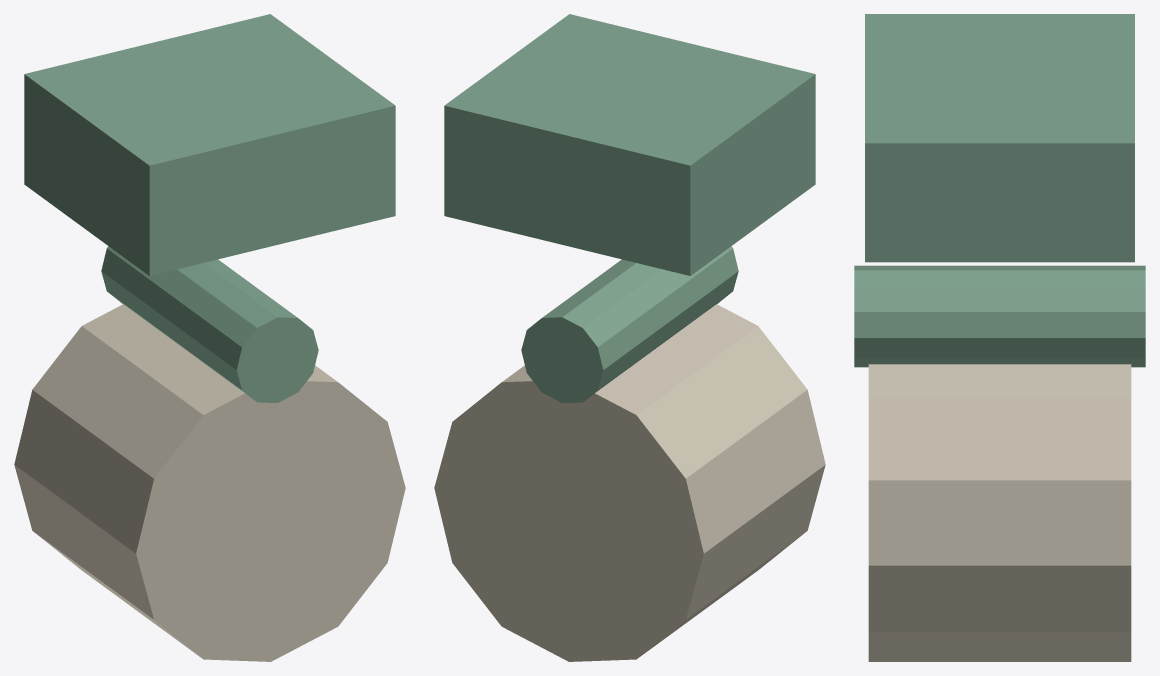
The model's file is maceta_departamento.glb.
3 renders of one model, left to right at view 1: azimuth 30°, elevation 25°; view 2: azimuth 150°, elevation 25°; view 3: azimuth 270°, elevation 25°, orthographic. The views are drawn at different scales.
Visible parts, largest first — view 1: maceta_departamento_00, maceta_departamento_02, maceta_departamento_01; view 2: maceta_departamento_00, maceta_departamento_02, maceta_departamento_01; view 3: maceta_departamento_00, maceta_departamento_02, maceta_departamento_01.
Part boxes in pixels (x1,y1,x2,y2): maceta_departamento_00: [14, 304, 405, 661]; maceta_departamento_02: [24, 14, 395, 275]; maceta_departamento_01: [101, 246, 318, 402]; maceta_departamento_00: [434, 304, 825, 661]; maceta_departamento_02: [444, 14, 815, 275]; maceta_departamento_01: [521, 246, 738, 402]; maceta_departamento_00: [868, 364, 1131, 661]; maceta_departamento_02: [865, 14, 1134, 262]; maceta_departamento_01: [854, 265, 1145, 367].
Bounding box in the file's own units: 0.46 × 0.86 × 0.4.
